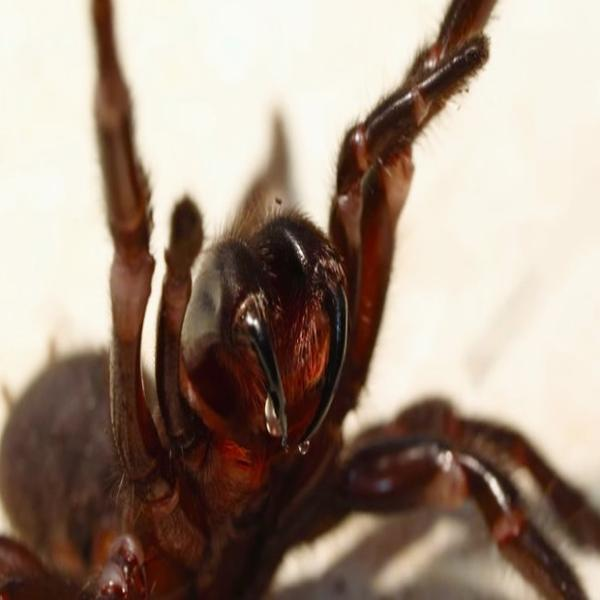Sydney_Funnel_Web_Spider: (4, 2, 596, 600)
